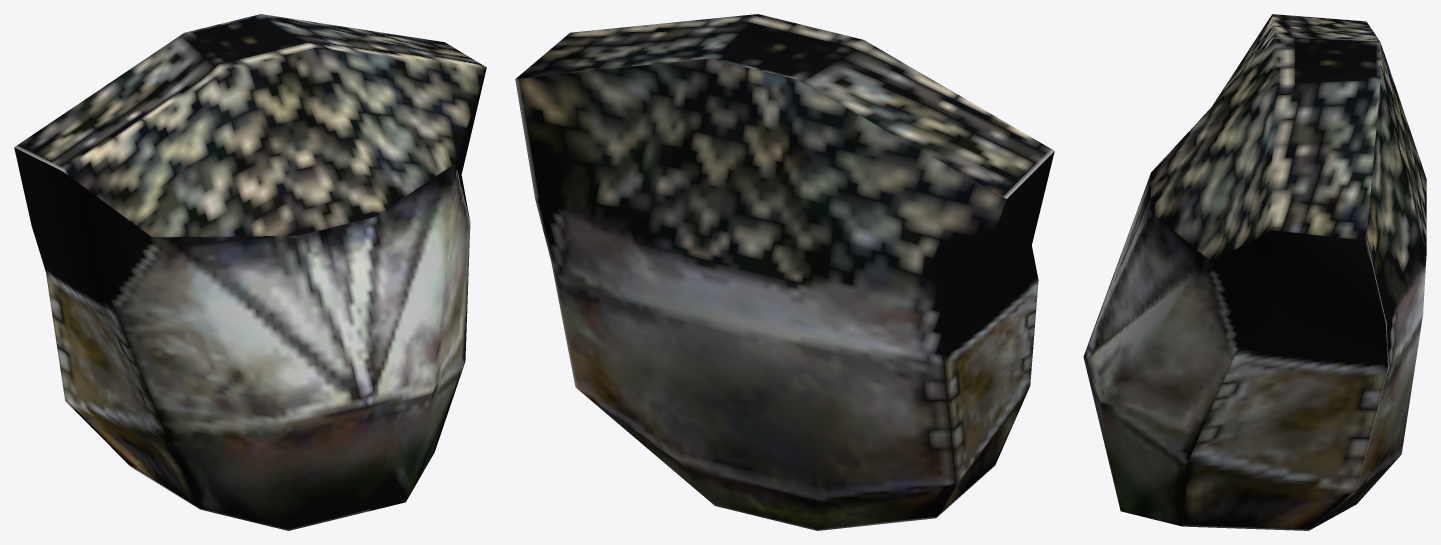
Rendered from st_bronya.glb.
3 views of the same model, side by side, from view 1: azimuth 30°, elevation 25°; view 2: azimuth 150°, elevation 25°; view 3: azimuth 270°, elevation 25° (orthographic). The views are drawn at different scales.
Parts seen in each view (by area): view 1: st_bronya; view 2: st_bronya; view 3: st_bronya.
Boxes of the visible parts, x1,y1,x2,y2 form: st_bronya: (14, 14, 486, 530); st_bronya: (515, 14, 1054, 530); st_bronya: (1083, 14, 1426, 530).
Size of the model in its own units: 0.5623 by 0.5019 by 0.3716.
Materials: 1 (1 with a texture image).
